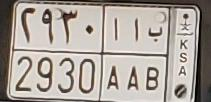0: (78, 24, 97, 95)
2: (14, 7, 37, 92)
3: (58, 10, 78, 95)
9: (37, 9, 54, 93)
A: (106, 17, 122, 92), (126, 18, 140, 93)
B: (145, 26, 162, 92)
